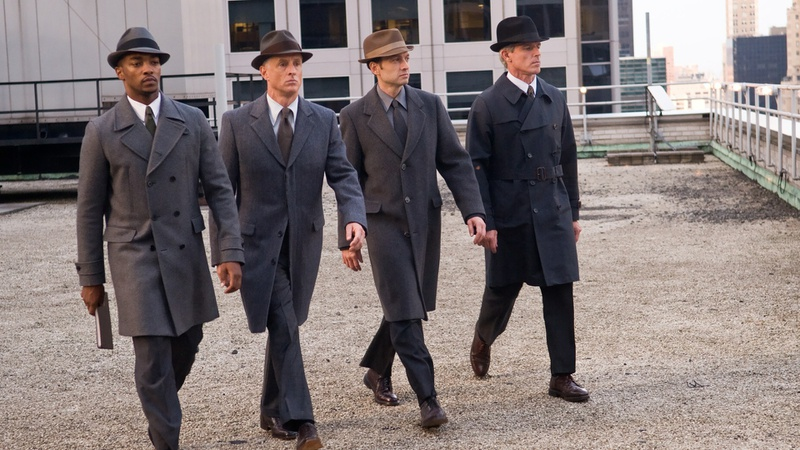bad: (122, 46, 165, 89)
